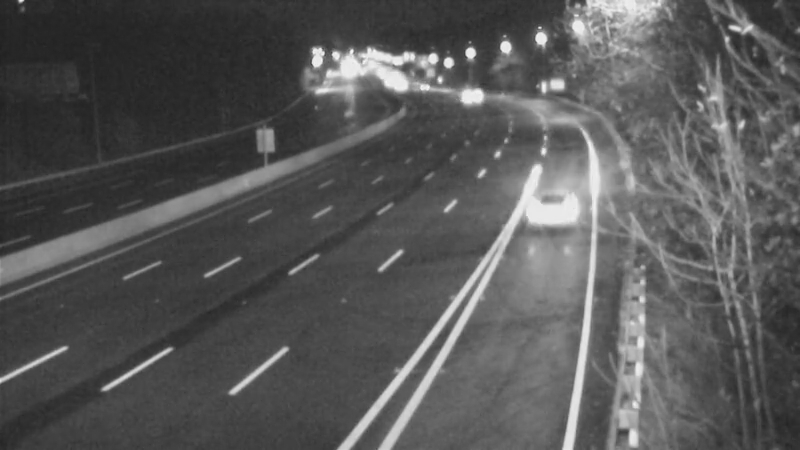vehicle: (513, 163, 593, 243), (392, 62, 442, 112), (440, 69, 490, 119)
